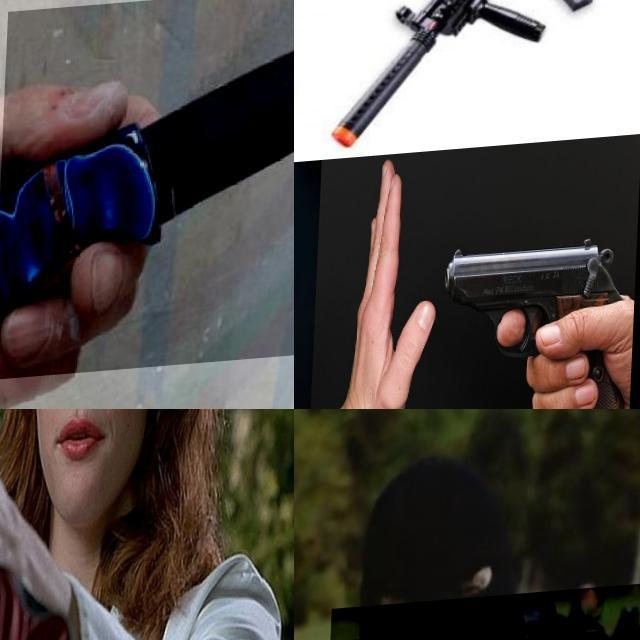-: (0, 0, 294, 383)
gun-knife-thesis - v11 Yolov5 augmented: (340, 0, 640, 154), (433, 240, 630, 409), (325, 586, 640, 640), (294, 57, 438, 169), (294, 0, 430, 71), (294, 0, 433, 52), (0, 409, 52, 509), (294, 244, 317, 356)
